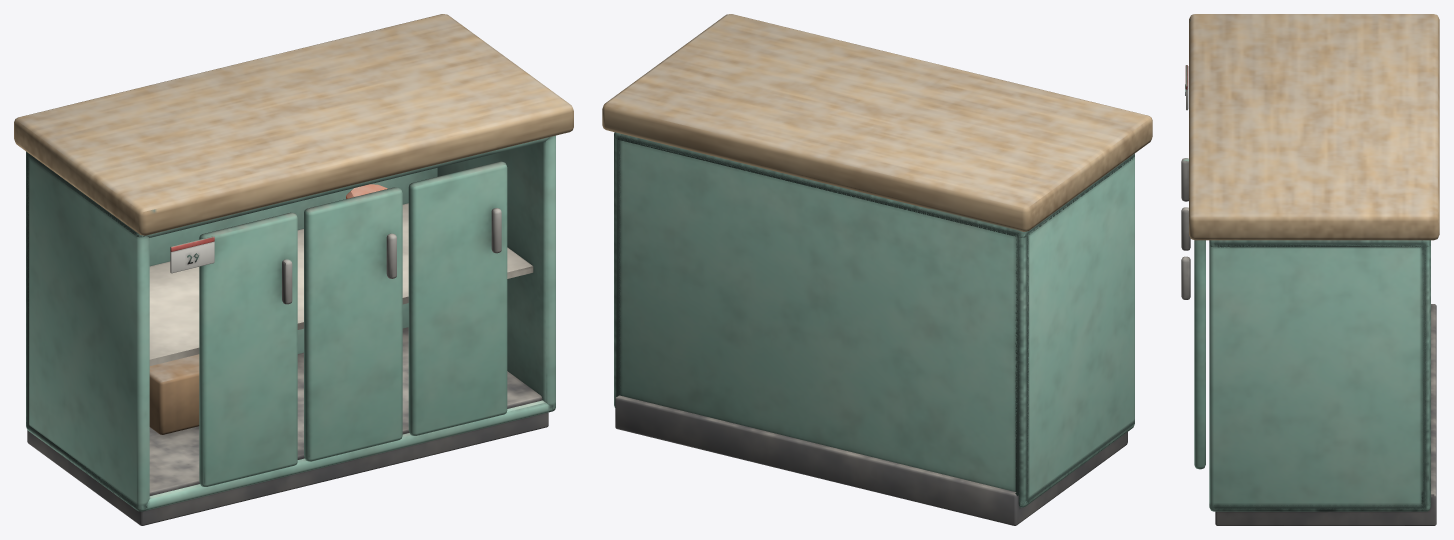
File: counter.fbx
3 renders of one model, left to right at view 1: azimuth 30°, elevation 25°; view 2: azimuth 150°, elevation 25°; view 3: azimuth 270°, elevation 25°, orthographic. The views are drawn at different scales.
Visible parts, largest first — view 1: Body, Door3, Door2, Door1; view 2: Body; view 3: Body, Door3, Door2, Door1.
Boxes of the visible parts, x1,y1,x2,y2 form: Body: (14,14,573,525); Door3: (408,161,507,435); Door2: (304,187,402,461); Door1: (199,212,297,486); Body: (602,14,1152,525); Body: (1185,14,1439,525); Door3: (1181,240,1205,469); Door2: (1181,207,1190,250); Door1: (1181,158,1188,201).
Size of the model in its own units: 4.15 by 3 by 2.22.
1 material, 1 textured.
